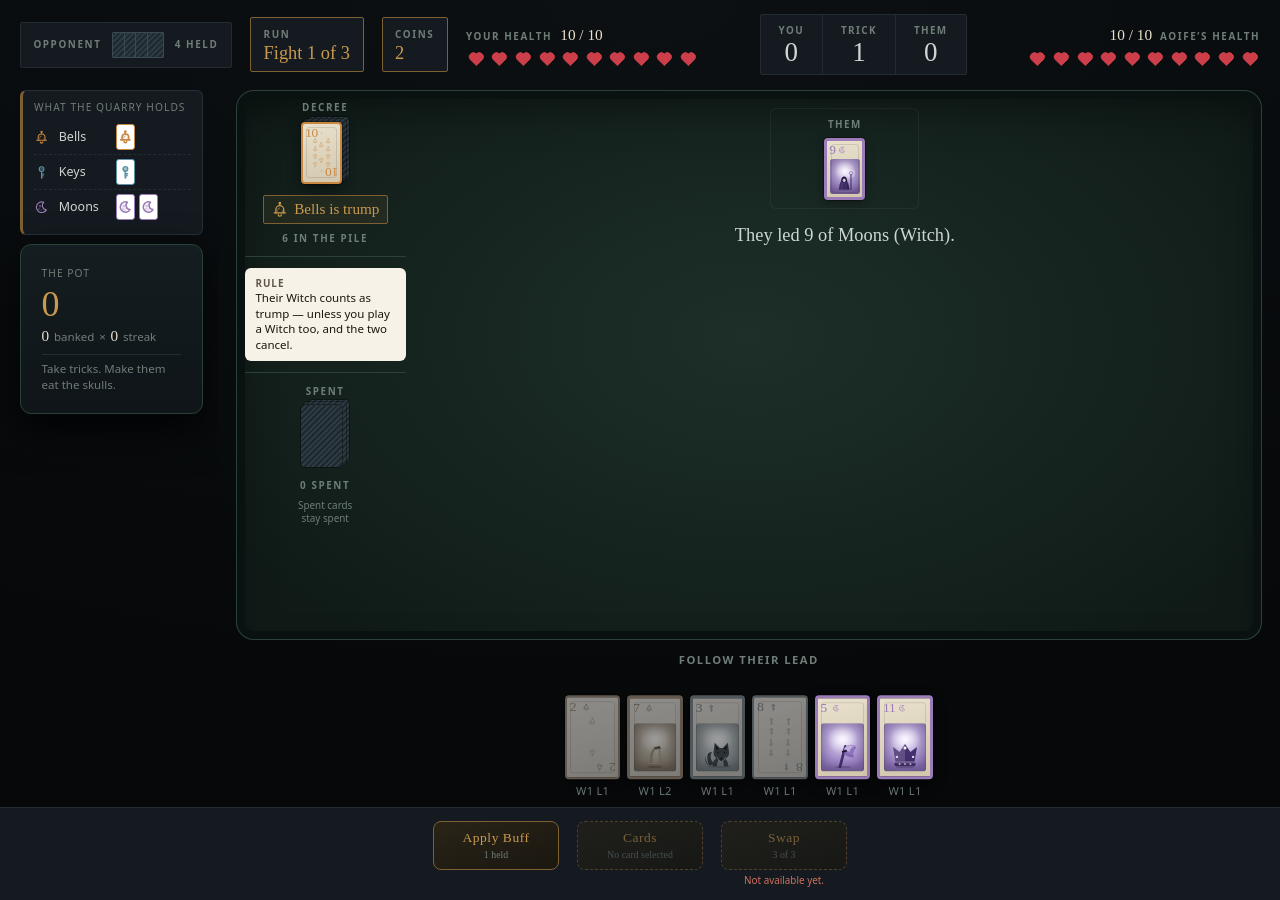
WarCouncilRound — the action bar (DLR-114) › mid-trick: a Cheat row stays live, following an already-committed lead — DLR-132, the one moment it has value
Click the button "Apply Buff 1 held" at (496, 845), box [433, 821, 559, 870]
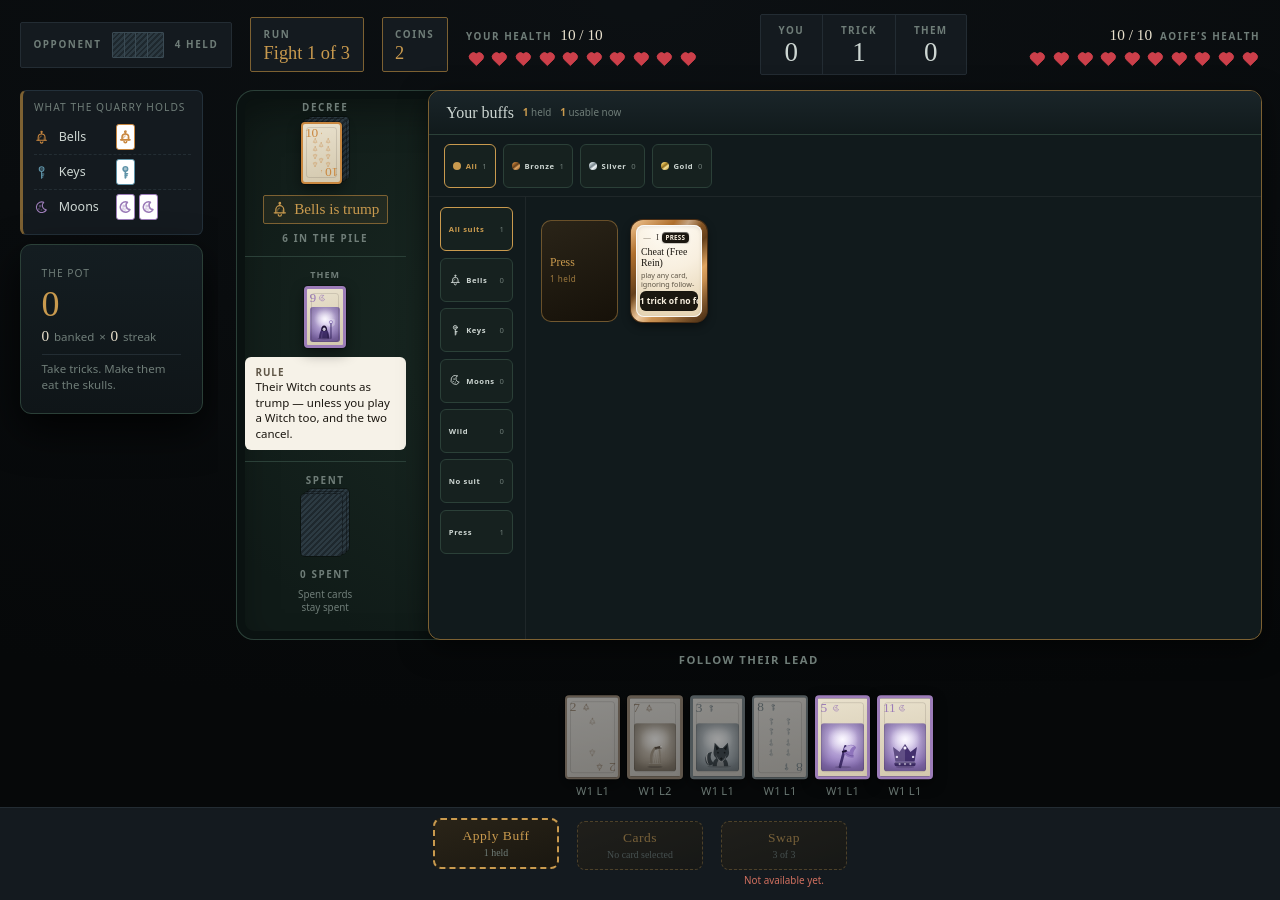
Expected: the button "Cheat (" is enabled, [631, 220, 707, 322]
